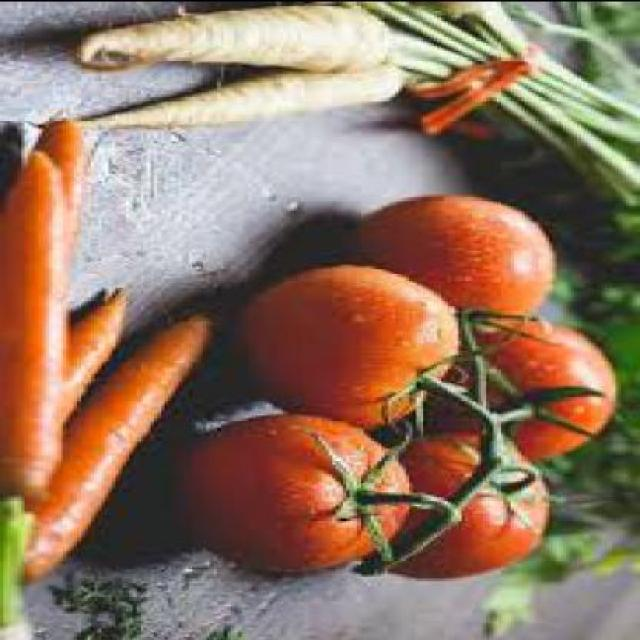BIODEGRADABLE: (391, 0, 638, 294), (3, 314, 220, 584), (178, 416, 416, 573), (245, 268, 464, 428), (4, 152, 70, 628), (350, 196, 562, 336), (52, 64, 410, 136), (434, 323, 623, 459), (381, 431, 553, 580), (536, 292, 638, 534), (70, 4, 396, 74), (486, 530, 602, 638), (32, 119, 91, 286), (71, 288, 129, 424), (597, 540, 638, 574)
